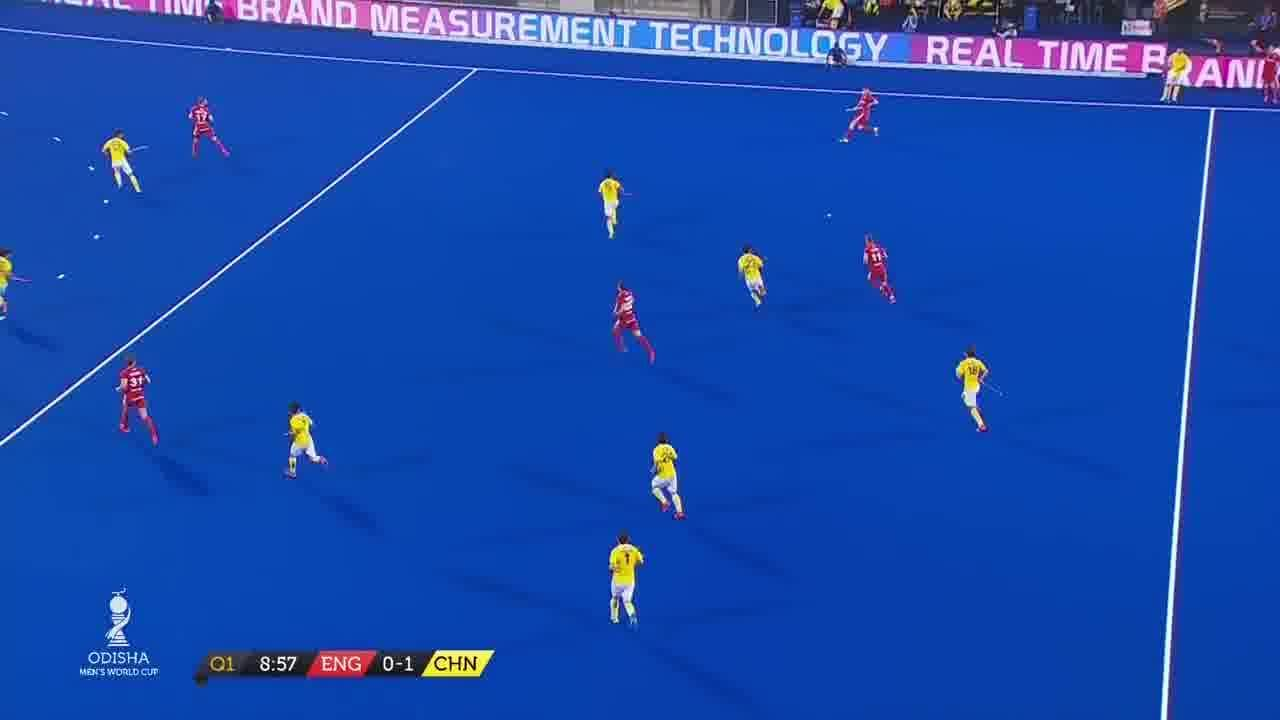ball: (819, 208, 835, 221)
